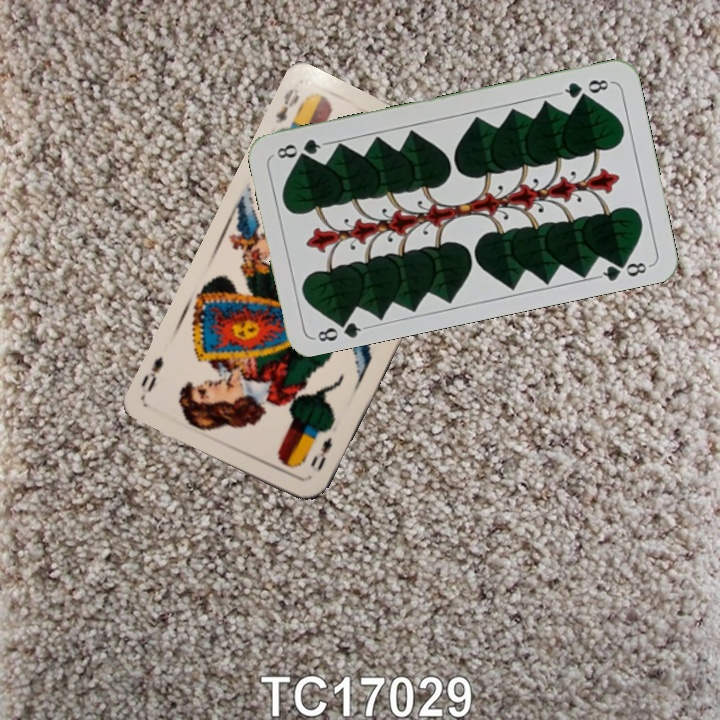EO: (271, 83, 302, 127), (306, 433, 335, 475)
G8: (311, 312, 370, 345), (556, 75, 614, 101)
